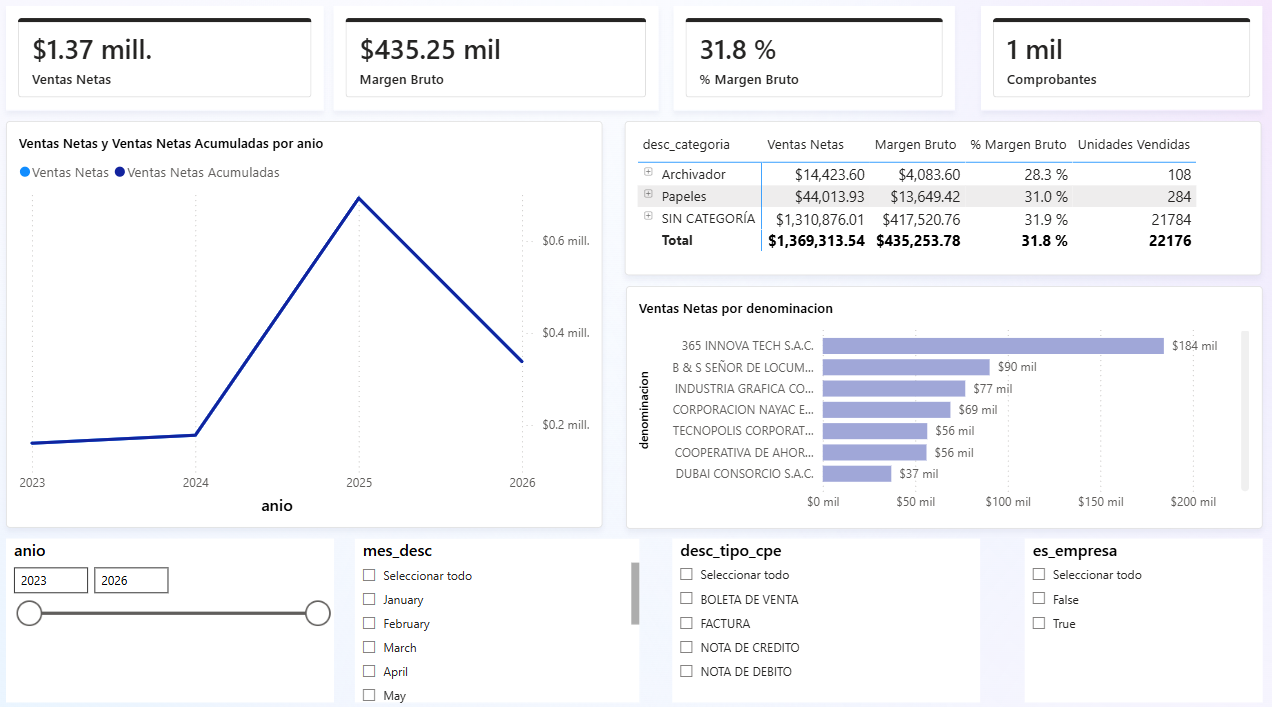

The dashboard page shown, as its layout file describes it:
{"tool":"powerbi","page":{"name":"Página 1","canvas":[1280,720],"ordinal":0},"visuals":[{"type":"cardVisual","fields":{"Data":["_Medidas.Ventas Netas"]},"box":[10,10,316.2,103.8],"z":0},{"type":"cardVisual","fields":{"Data":["_Medidas.Margen Bruto"]},"box":[336.2,10,323.8,103.8],"z":1000},{"type":"cardVisual","fields":{"Data":["_Medidas.% Margen Bruto"]},"box":[673.8,10,280,103.8],"z":2000},{"type":"cardVisual","fields":{"Data":["_Medidas.Comprobantes"]},"box":[980,10,280,103.8],"z":3000},{"type":"pivotTable","fields":{"Rows":["marts dim_producto.Producto Comercial.desc_categoria","marts dim_producto.Producto Comercial.descripcion"],"Values":["_Medidas.Ventas Netas","_Medidas.Margen Bruto","_Medidas.% Margen Bruto","_Medidas.Unidades Vendidas"]},"box":[626.2,125,633.8,153.8],"z":4000},{"type":"lineChart","fields":{"Category":["marts dim_fecha.Calendario.anio","marts dim_fecha.Calendario.trimestre","marts dim_fecha.Calendario.mes_desc","marts dim_fecha.Calendario.fecha"],"Y2":["_Medidas.Ventas Netas","_Medidas.Ventas Netas Acumuladas"]},"box":[10,125,593.8,405],"z":5000},{"type":"clusteredBarChart","fields":{"Y":["_Medidas.Ventas Netas"],"Category":["marts dim_entidad.denominacion"]},"box":[626.7,288.3,633.3,241.7],"z":6000},{"type":"slicer","fields":{"Values":["marts dim_fecha.anio"]},"box":[10,540,326.7,163.3],"z":7000},{"type":"slicer","fields":{"Values":["marts dim_fecha.mes_desc"]},"box":[356.7,540,283.3,163.3],"z":8000},{"type":"slicer","fields":{"Values":["marts dim_tipo_cpe.desc_tipo_cpe"]},"box":[673.3,540,306.7,163.3],"z":9000},{"type":"slicer","fields":{"Values":["marts dim_entidad.es_empresa"]},"box":[1023.3,540,236.7,163.3],"z":10000}]}

Visuals, with their boxes in screenshot pixels (x1, y1, x2, y2), scaled from the page's 1280x720 canvas onto the 1272x707 screenshot:
cardVisual - _Medidas.Ventas Netas: crop(10, 10, 324, 112)
cardVisual - _Medidas.Margen Bruto: crop(334, 10, 656, 112)
cardVisual - _Medidas.% Margen Bruto: crop(670, 10, 948, 112)
cardVisual - _Medidas.Comprobantes: crop(974, 10, 1252, 112)
pivotTable - marts dim_producto.Producto Comercial.desc_categoria x marts dim_producto.Producto Comercial.descripcion: crop(622, 123, 1252, 274)
lineChart - marts dim_fecha.Calendario.anio x marts dim_fecha.Calendario.trimestre: crop(10, 123, 600, 520)
clusteredBarChart - _Medidas.Ventas Netas x marts dim_entidad.denominacion: crop(623, 283, 1252, 520)
slicer - marts dim_fecha.anio: crop(10, 530, 335, 691)
slicer - marts dim_fecha.mes_desc: crop(354, 530, 636, 691)
slicer - marts dim_tipo_cpe.desc_tipo_cpe: crop(669, 530, 974, 691)
slicer - marts dim_entidad.es_empresa: crop(1017, 530, 1252, 691)
